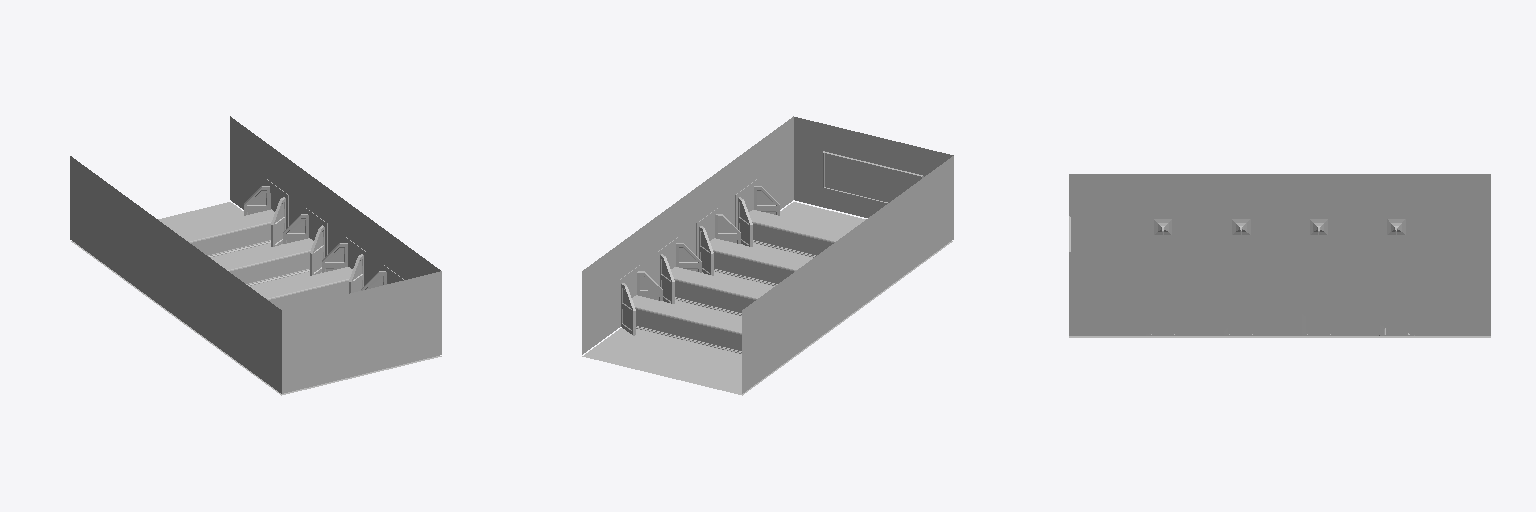
The model's file is room3.obj.
3 renders of one model, left to right at view 1: azimuth 30°, elevation 25°; view 2: azimuth 150°, elevation 25°; view 3: azimuth 270°, elevation 25°, orthographic.
Visible parts, largest first — view 1: PareteDx, PareteFronte, PareteSx, tables, Floor, ContornoPorta, dOOR8, dOOR7, dOOR5, dOOR4, dOOR6; view 2: PareteDx, tables, PareteSx, Floor, PareteFronte, pICTURE, ContornoPorta, dOOR8, dOOR6, dOOR4, dOOR2, dOOR7 (+3 smaller); view 3: PareteSx, PareteDx, tables, spillatori2, Floor, ContornoPorta.
Boxes of the visible parts, box(x1,y1,x2,y2) form: PareteDx: box(70, 156, 281, 393); PareteFronte: box(282, 271, 441, 393); PareteSx: box(230, 116, 440, 283); tables: box(176, 209, 352, 309); Floor: box(71, 202, 441, 395); ContornoPorta: box(266, 179, 403, 285); dOOR8: box(244, 186, 270, 215); dOOR7: box(271, 197, 285, 246); dOOR5: box(310, 225, 324, 275); dOOR4: box(322, 243, 347, 272); dOOR6: box(283, 214, 308, 243); PareteDx: box(742, 156, 953, 393); tables: box(632, 210, 847, 353); PareteSx: box(582, 116, 793, 354); Floor: box(582, 202, 952, 395); PareteFronte: box(794, 117, 953, 217); pICTURE: box(823, 151, 923, 202); ContornoPorta: box(619, 179, 757, 327); dOOR8: box(621, 283, 635, 335); dOOR6: box(660, 254, 674, 303); dOOR4: box(699, 226, 713, 275); dOOR2: box(738, 197, 752, 246); dOOR7: box(637, 271, 662, 300); PareteSx: box(1069, 252, 1490, 335); PareteDx: box(1069, 174, 1490, 251); tables: box(1150, 315, 1409, 335); spillatori2: box(1154, 219, 1405, 234); Floor: box(1069, 336, 1490, 337); ContornoPorta: box(1143, 292, 1415, 335).
Bounding box in the file's own units: 7 × 3.56 × 16.